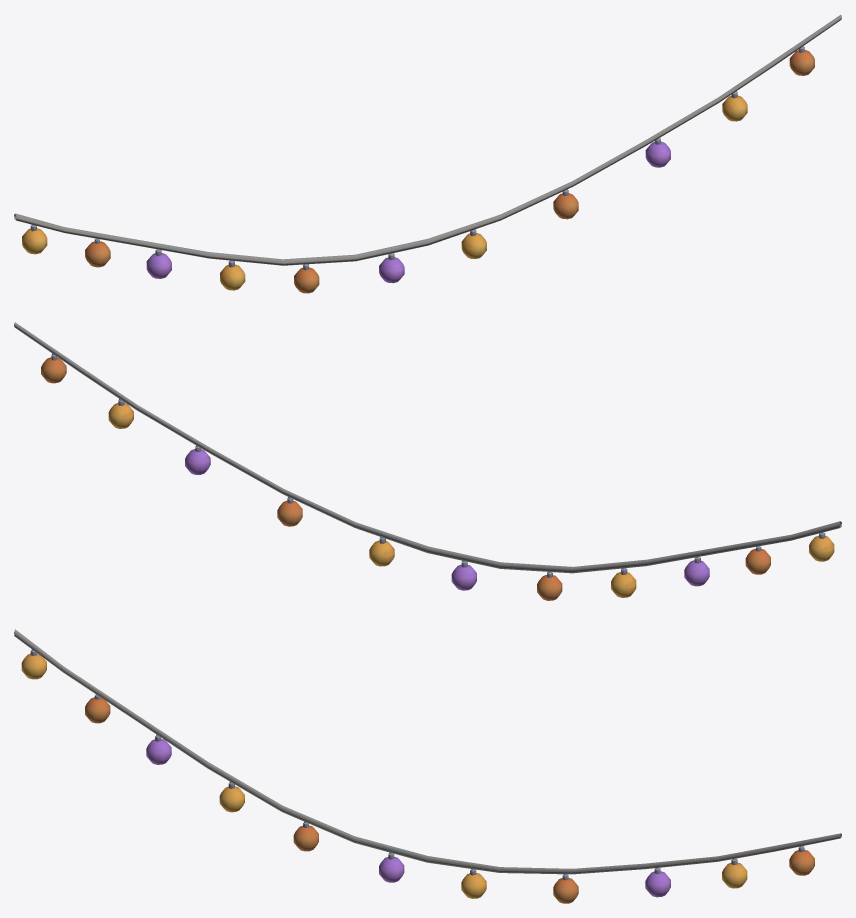
Rendered from pref_sm_beach_WSJ_deng03_d_lv3.fbx.
3 renders of one model, top to bottom at view 1: azimuth 30°, elevation 25°; view 2: azimuth 150°, elevation 25°; view 3: azimuth 330°, elevation 25°, orthographic.
Visible parts, largest first — view 1: pref_sm_beach_WSJ_deng03_d_lv3; view 2: pref_sm_beach_WSJ_deng03_d_lv3; view 3: pref_sm_beach_WSJ_deng03_d_lv3.
Boxes of the visible parts, x1,y1,x2,y2 form: pref_sm_beach_WSJ_deng03_d_lv3: (14, 15, 841, 293); pref_sm_beach_WSJ_deng03_d_lv3: (14, 322, 841, 600); pref_sm_beach_WSJ_deng03_d_lv3: (14, 629, 841, 903).
Bounding box in the file's own units: 9.52 × 1.77 × 0.2426.
